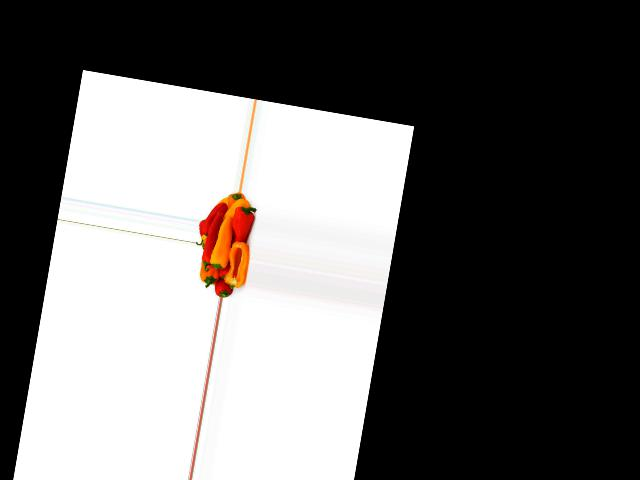bell_pepper: (209, 265, 235, 299)
